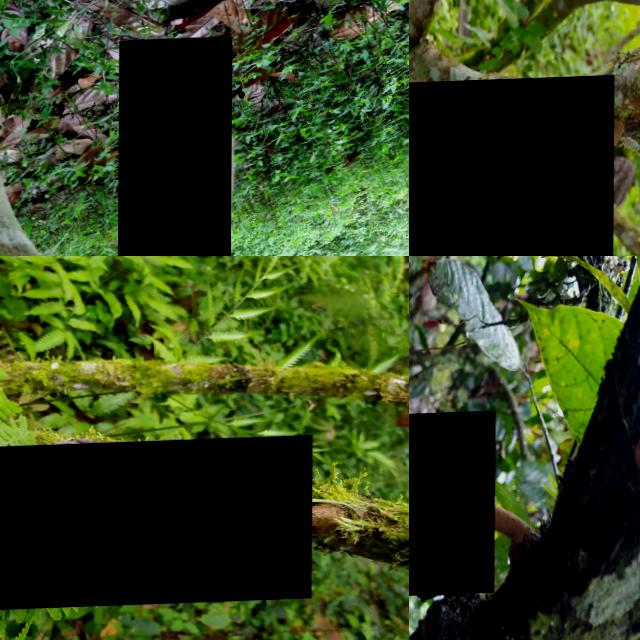Fitoftora: (0, 439, 312, 614), (118, 39, 232, 256)
Monilia: (409, 414, 495, 608)
Sana: (409, 79, 614, 256)
